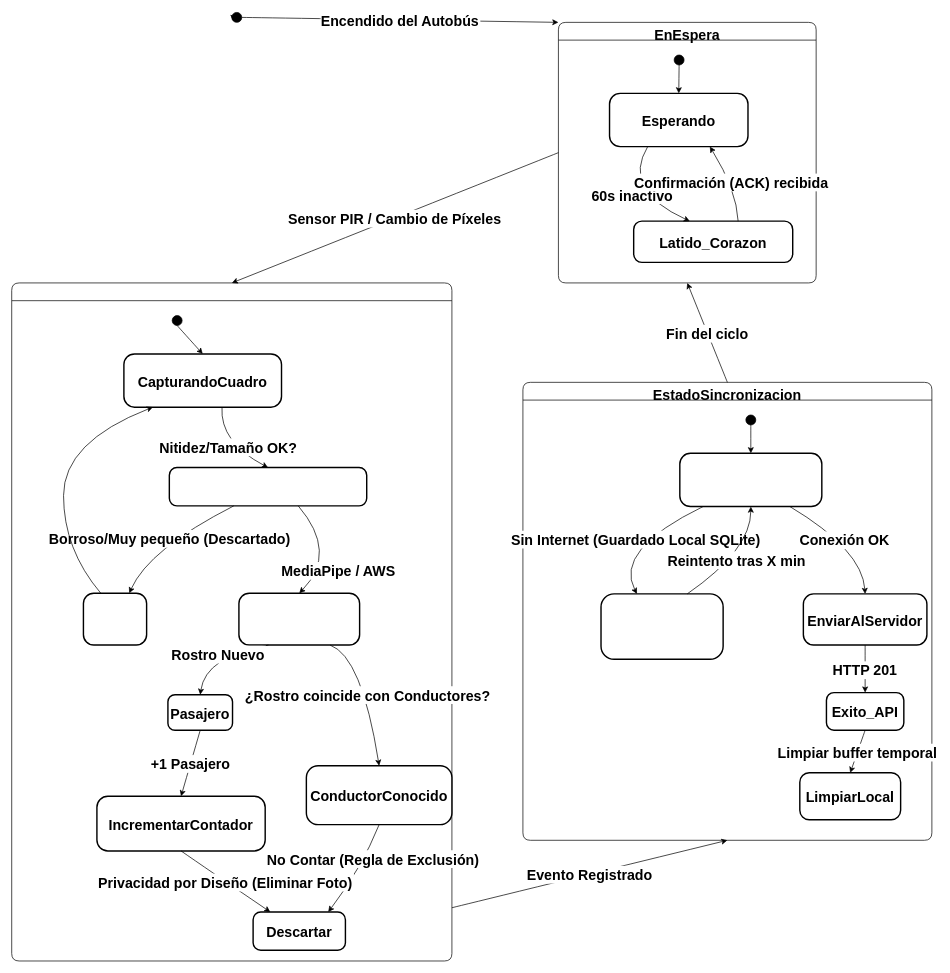
Image size: 950x973. Some labels were removed from this diagram. Here are the shapes that lost their labels. From the top down, the box of each, then its label:
(168, 466, 367, 506): EvaluandoCalidad
(679, 452, 822, 507): VerificarConexion
(82, 592, 147, 645): Fallido
(11, 282, 452, 961): MovimientoDetectado
(238, 592, 360, 645): DeteccionLocal
(600, 593, 723, 660): DBFueraLinea
